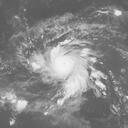cyclone: (28, 35, 109, 96)
